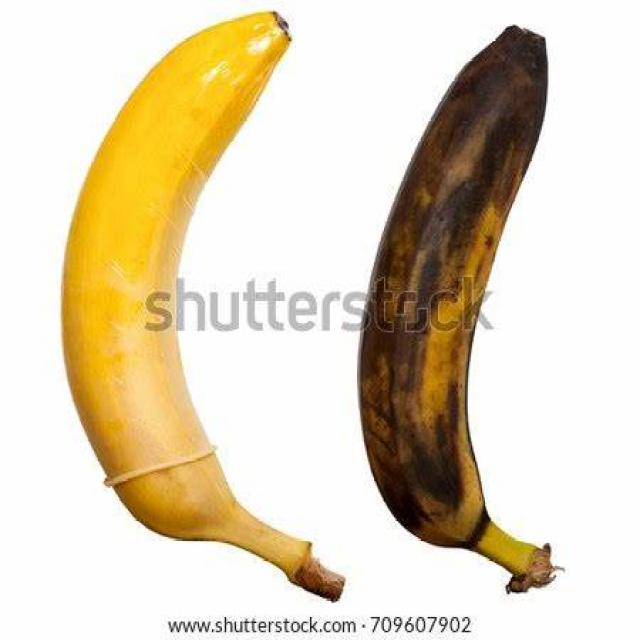Banana: (55, 16, 323, 601), (369, 28, 571, 589)
